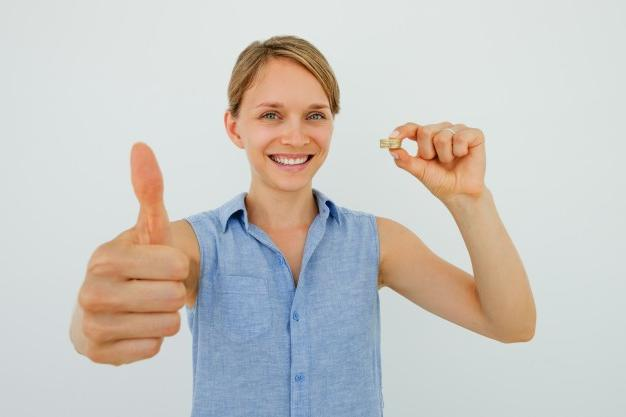thumbsup: (77, 140, 190, 366)
